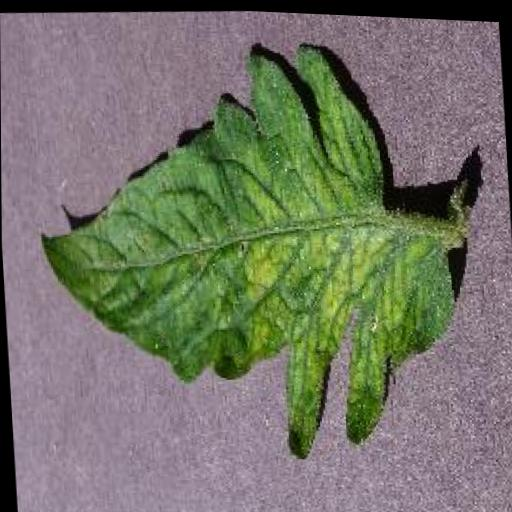Mosaic Virus: (20, 27, 465, 480)
